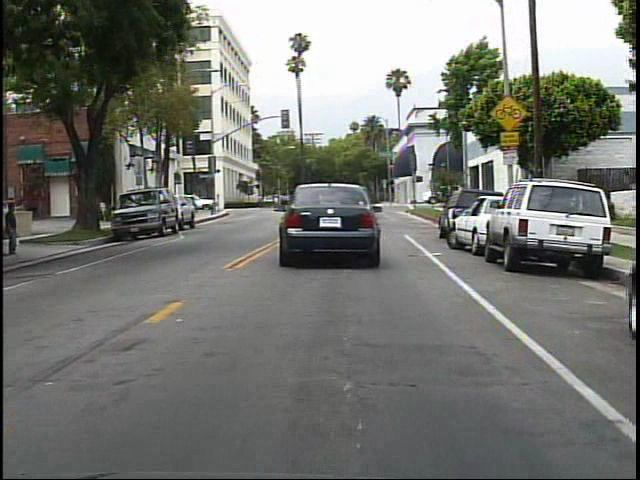person: (6, 196, 26, 255)
